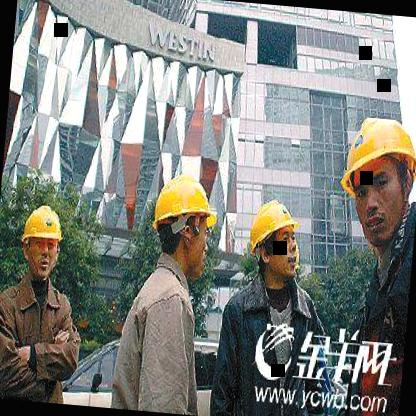helmet: (331, 106, 416, 259), (144, 168, 220, 286), (244, 194, 308, 288), (13, 196, 68, 287)
